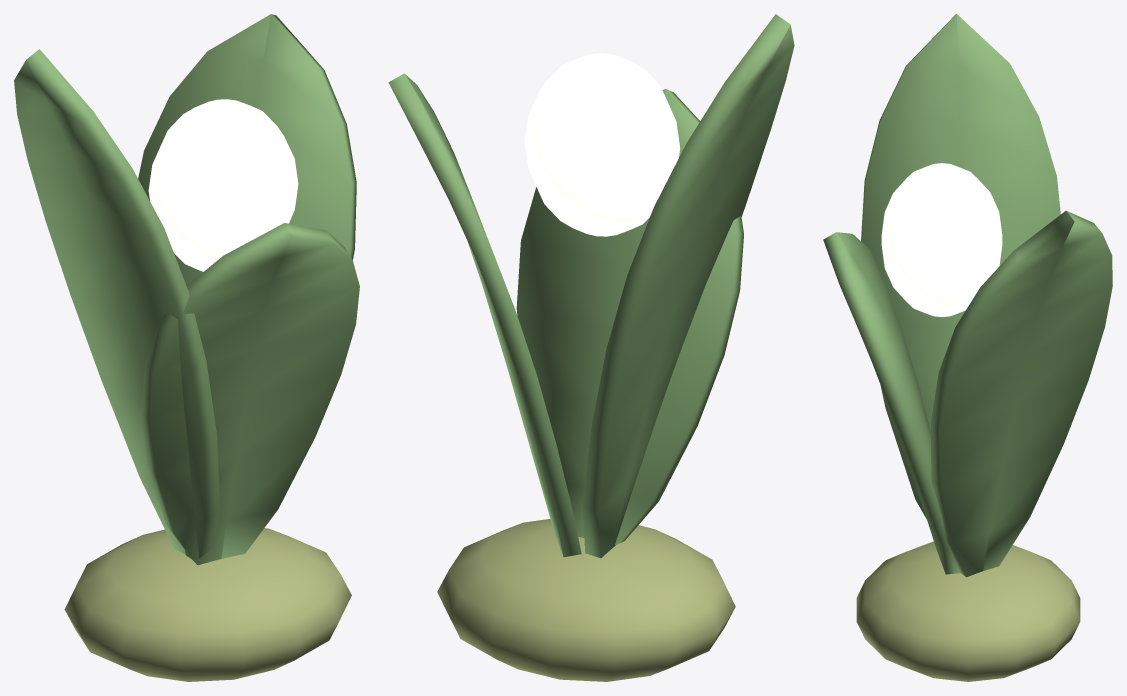
Rendered from plant.glb.
The picture shows the model from 3 angles, left to right: view 1: azimuth 30°, elevation 25°; view 2: azimuth 150°, elevation 25°; view 3: azimuth 270°, elevation 25°; orthographic projection. The views are drawn at different scales.
Visible parts, largest first — view 1: food_plant_painted_mesh; view 2: food_plant_painted_mesh; view 3: food_plant_painted_mesh.
Part boxes in pixels (x1,y1,x2,y2): food_plant_painted_mesh: (14, 14, 359, 681); food_plant_painted_mesh: (388, 14, 794, 681); food_plant_painted_mesh: (823, 14, 1112, 681).
Size of the model in its own units: 0.7717 by 1.43 by 0.6569.
